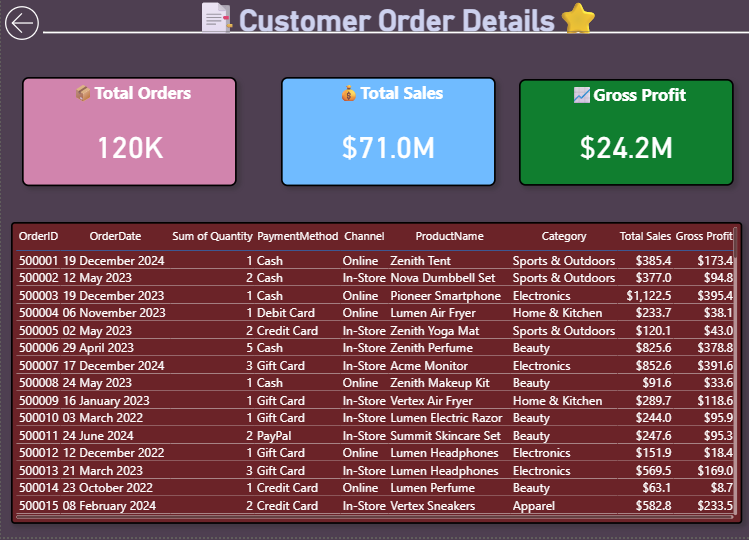

Layout of this report page (visuals, bound fields, positions):
{"tool":"powerbi","page":{"name":"Customer Details","canvas":[1800,1300],"ordinal":3},"visuals":[{"type":"actionButton","box":[0,0,100.4,134.8],"z":0},{"type":"card","title":"📦Total Orders","fields":{"Values":["_Measures.Total Orders"]},"box":[50.2,195.5,515.2,261.6],"z":2000},{"type":"card","title":"💰Total Sales","fields":{"Values":["_Measures.Total Sales"]},"box":[671.1,195.5,515.2,261.6],"z":3000},{"type":"card","title":"📈Gross Profit","fields":{"Values":["_Measures.Gross Profit"]},"box":[1241.9,200.8,515.2,256.3],"z":4000},{"type":"tableEx","fields":{"Values":["fact_sales.OrderID","fact_sales.OrderDate","Sum(fact_sales.Quantity)","fact_sales.PaymentMethod","fact_sales.Channel","dim_products.ProductName","dim_products.Category","_Measures.Total Sales","_Measures.Gross Profit"]},"box":[23.8,544.3,1754.5,724],"z":5000},{"type":"textbox","title":"📑Customer Order Details⭐","box":[100.4,0,1699,92.5],"z":6001}]}

Visuals, with their boxes in screenshot pixels (x1, y1, x2, y2), scaled from the page's 1800x1300 canvas onto the 749x540 screenshot:
actionButton: region(0, 0, 42, 56)
"📦Total Orders" card: region(21, 81, 235, 190)
"💰Total Sales" card: region(279, 81, 494, 190)
"📈Gross Profit" card: region(517, 83, 731, 190)
tableEx - fact_sales.OrderID x fact_sales.OrderDate: region(10, 226, 740, 527)
"📑Customer Order Details⭐" textbox: region(42, 0, 748, 38)
